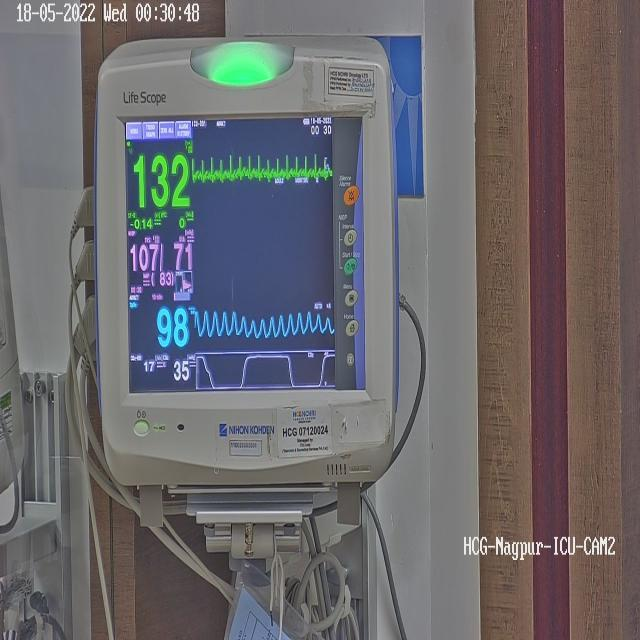Monitor: (93, 37, 397, 580)
